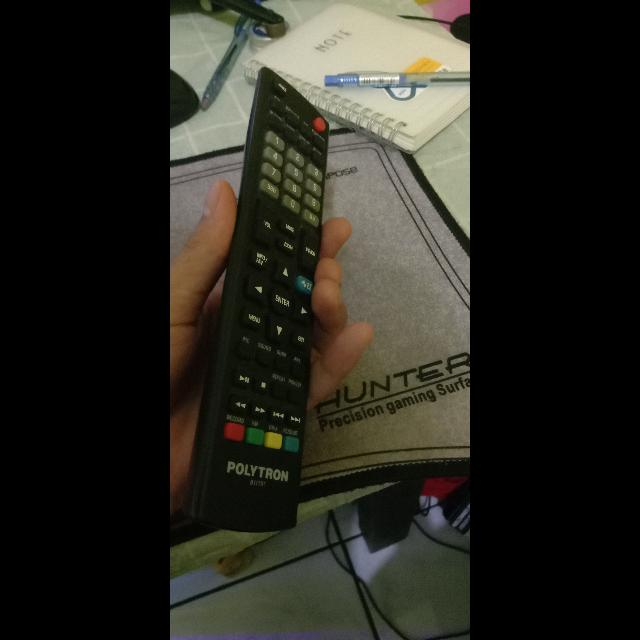TV-Remote-Control: (192, 63, 332, 535)
